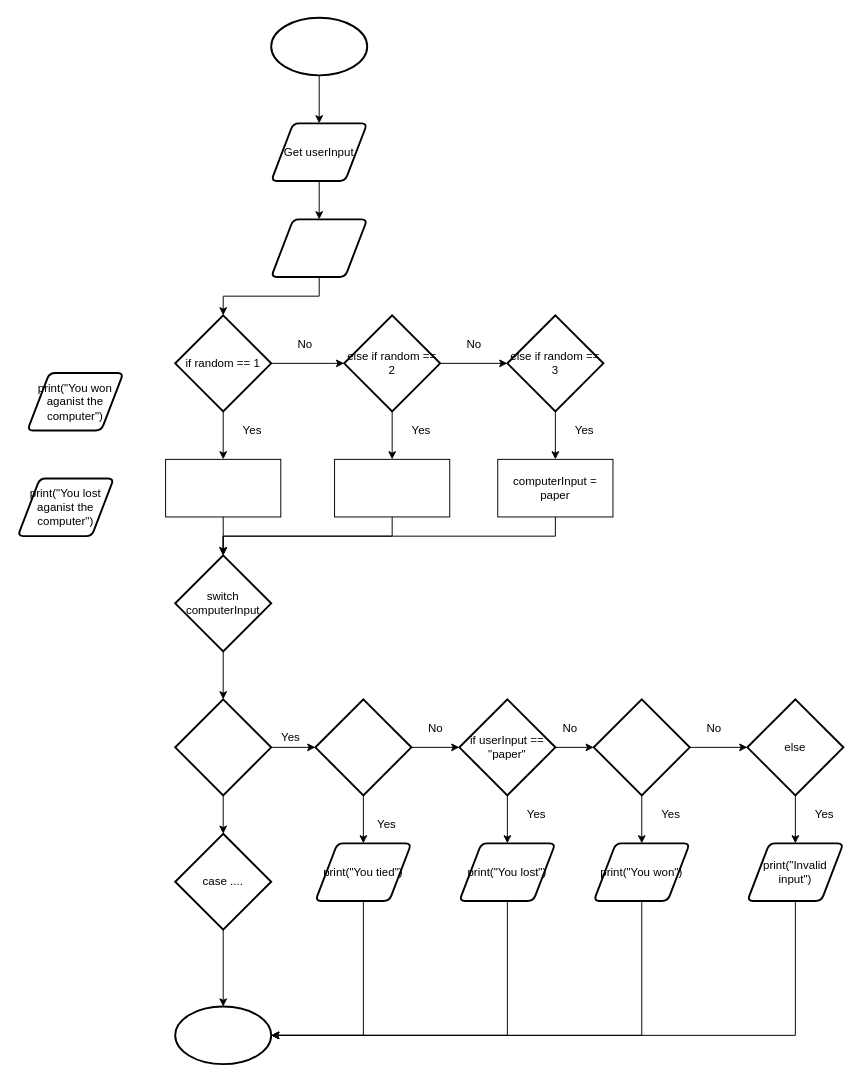
Some shapes in this 860 by 1081 pixel diagram are drawn without their labels. Here are the shapes that lost their labels. From the top down, the centre of each, then its label:
(319,46): Start
(319,247): Get random
(223,487): computerInput = scissors
(392,487): computerInput = rock
(223,747): Case rock
(363,747): if userInput == "rock"
(641,747): if userInput == "scissors"
(223,1035): Stop
